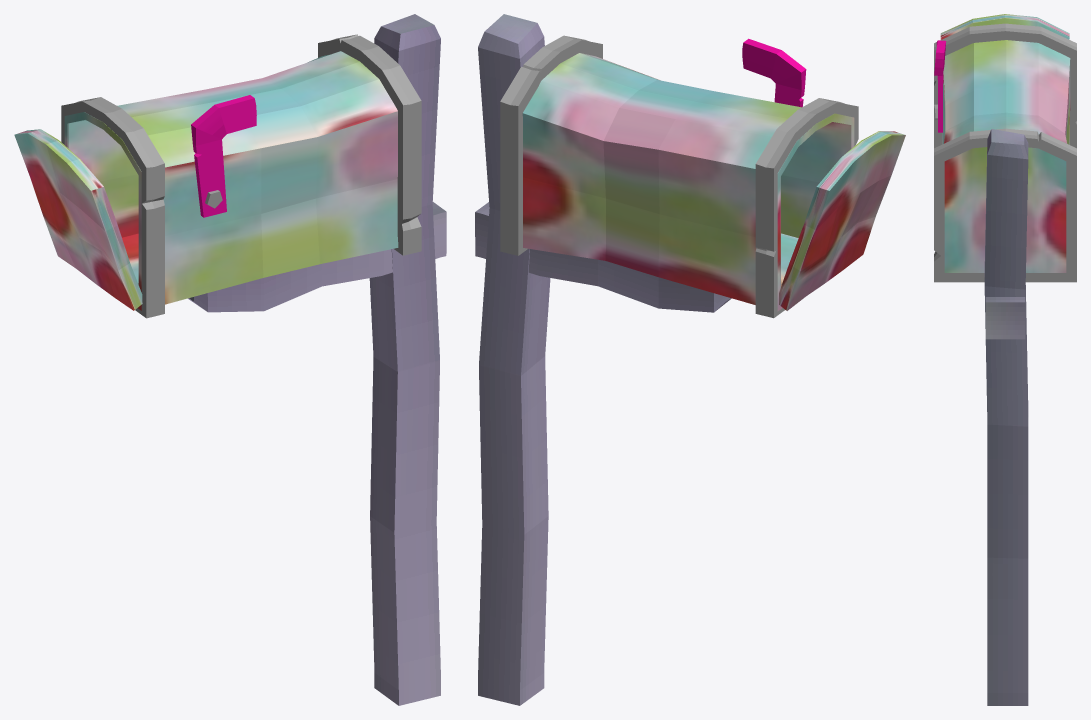
The model's file is mailbox-low-poly.glb.
3 views of the same model, side by side, from view 1: azimuth 30°, elevation 25°; view 2: azimuth 150°, elevation 25°; view 3: azimuth 270°, elevation 25° (orthographic). The views are drawn at different scales.
Parts seen in each view (by area): view 1: Cube.3857; view 2: Cube.3857; view 3: Cube.3857.
Part boxes in pixels (box(x1,y1,x2,y2)): Cube.3857: box(14, 14, 446, 705); Cube.3857: box(475, 14, 905, 705); Cube.3857: box(934, 14, 1076, 705).
Bounding box in the file's own units: 0.7803 × 1.29 × 0.2954.
Materials: 4 (2 with a texture image).
